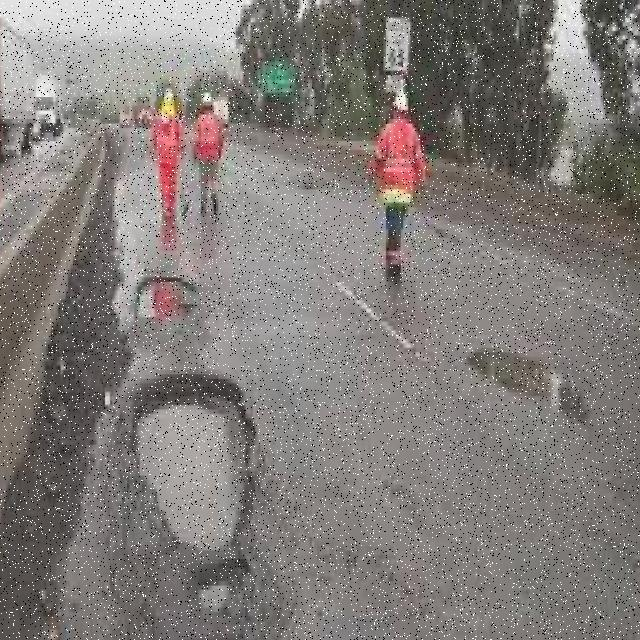pothole: (135, 374, 253, 616), (470, 352, 566, 410), (139, 278, 196, 330)
